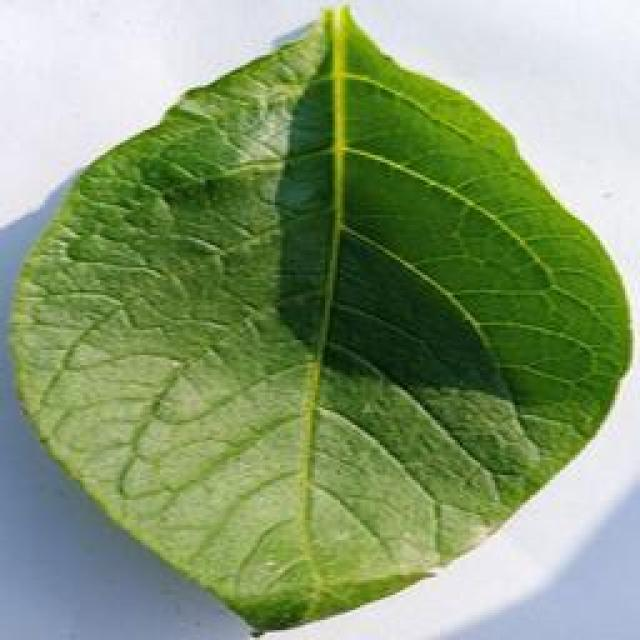Potato_Healthy: (8, 9, 638, 633)
